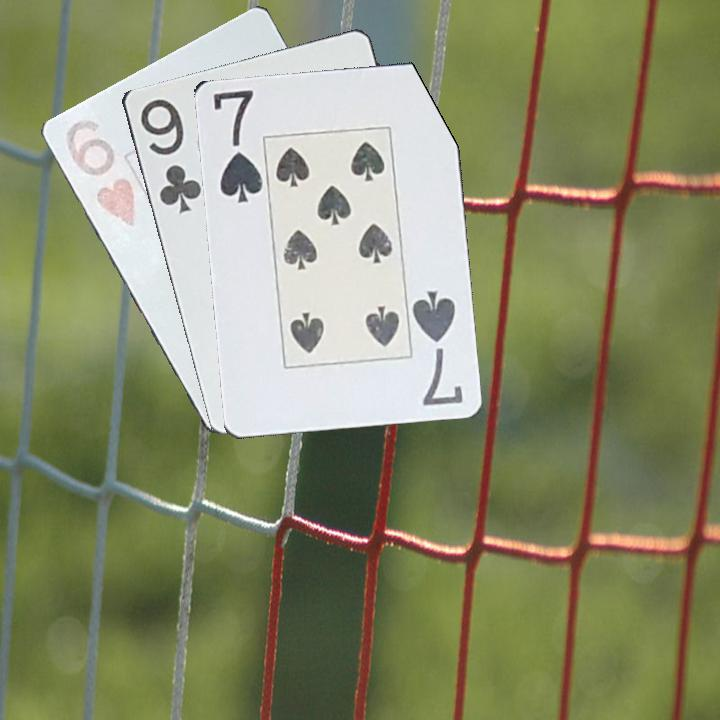6h: (56, 115, 139, 234)
7s: (409, 286, 466, 409), (209, 86, 265, 206)
9c: (136, 95, 204, 217)
